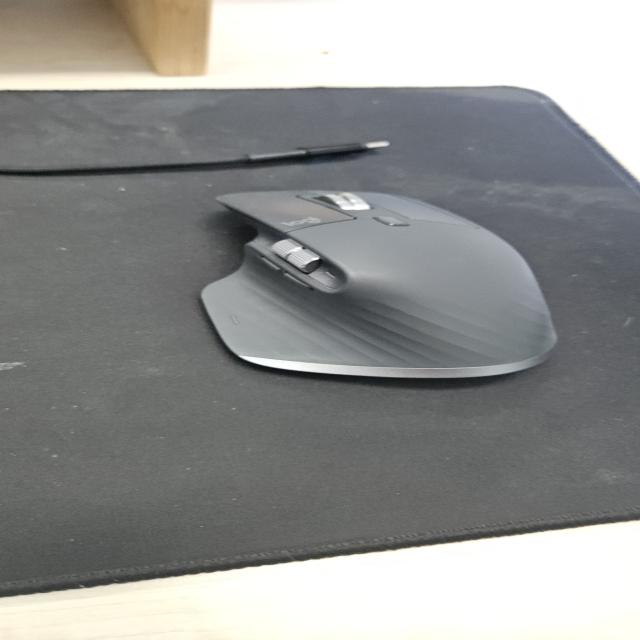Mouse: (196, 187, 562, 380)
